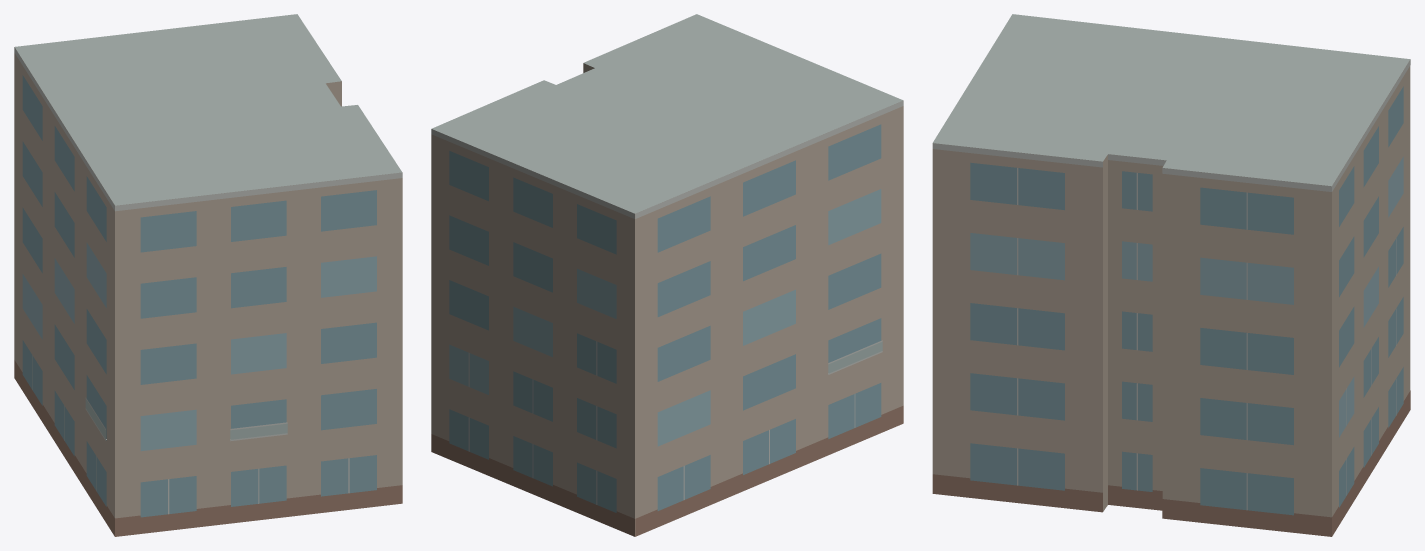
File: survey-upis-32828590.glb
3 views of the same model, side by side, from view 1: azimuth 30°, elevation 25°; view 2: azimuth 150°, elevation 25°; view 3: azimuth 270°, elevation 25° (orthographic). The views are drawn at different scales.
Visible parts, largest first — view 1: survey-upis-32828590.tmp; view 2: survey-upis-32828590.tmp; view 3: survey-upis-32828590.tmp.
Boxes of the visible parts, <box> form: survey-upis-32828590.tmp: <box>14,14,402,536</box>; survey-upis-32828590.tmp: <box>431,14,903,536</box>; survey-upis-32828590.tmp: <box>932,14,1410,536</box>.
Size of the model in its own units: 15.28 by 14.5 by 17.92.
